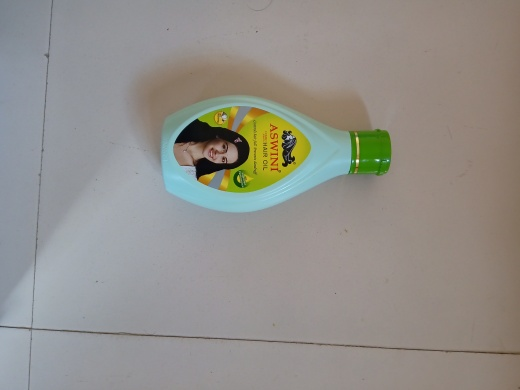aswini: (145, 87, 403, 226)
